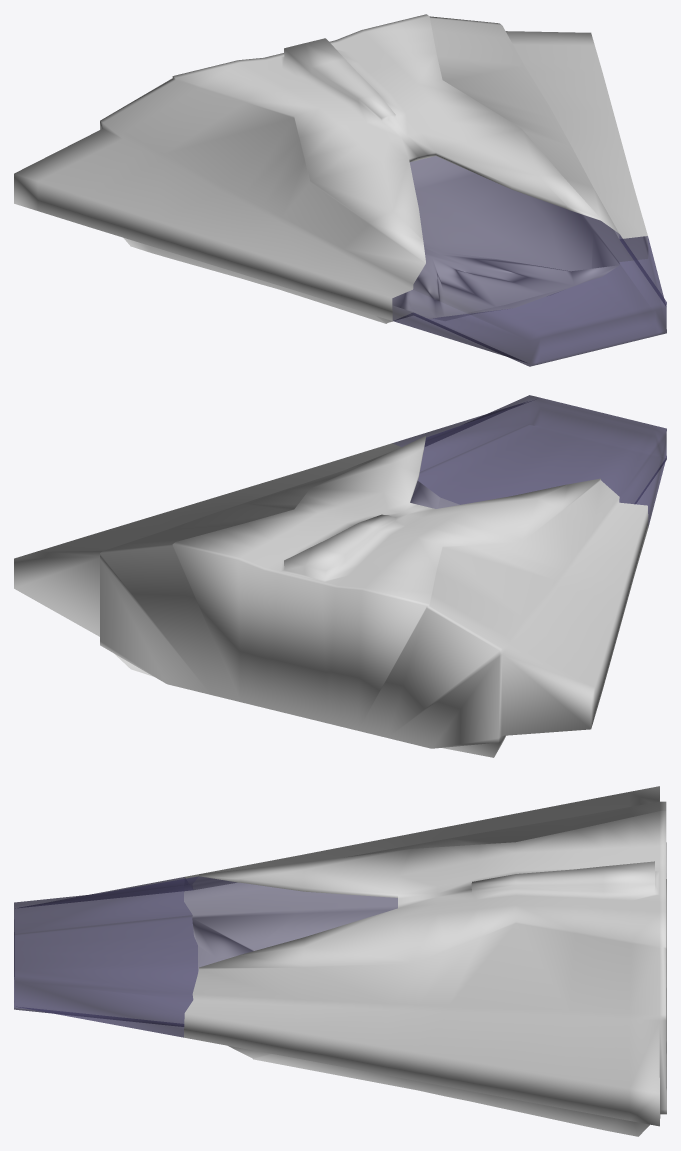
The model's file is spaceship.fbx.
3 renders of one model, top to bottom at view 1: azimuth 30°, elevation 25°; view 2: azimuth 150°, elevation 25°; view 3: azimuth 270°, elevation 25°, orthographic. The views are drawn at different scales.
Parts seen in each view (by area): view 1: Plane_001, Plane_000; view 2: Plane_001, Plane_000; view 3: Plane_001, Plane_000.
Boxes of the visible parts, box(x1,y1,x2,y2) form: Plane_001: box(14, 14, 648, 323); Plane_000: box(392, 156, 666, 366); Plane_001: box(14, 436, 648, 757); Plane_000: box(392, 395, 666, 527); Plane_001: box(184, 786, 666, 1136); Plane_000: box(14, 876, 397, 1037).
Size of the model in its own units: 3.29 by 0.8371 by 2.95.
